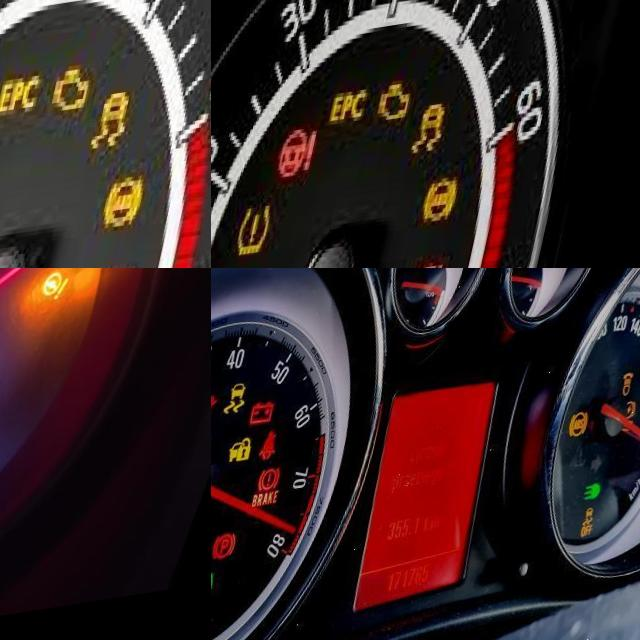Electronic Power Steering: (282, 132, 330, 187), (51, 279, 85, 315)
Seat Belt: (272, 435, 293, 470)
